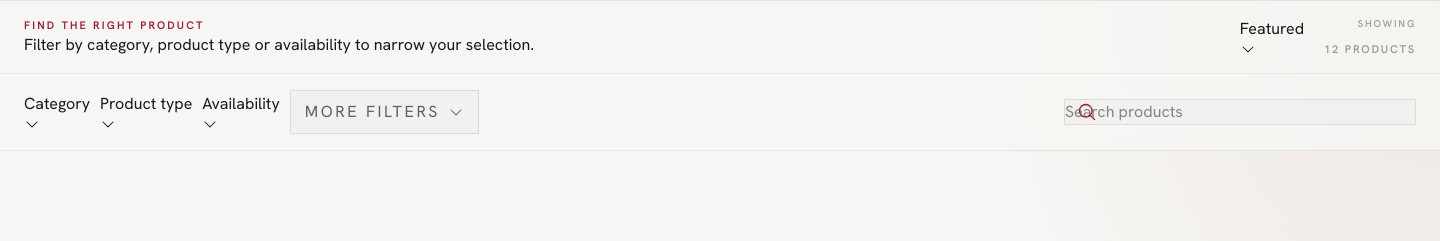
Test: FilterBar › keeps primary filters visible and progressively reveals contextual filters
Expected: the button "Category" is shown, top-left (24, 92), bottom-right (90, 132)
Expected: the button "Availability" is shown, top-left (202, 92), bottom-right (280, 132)
Click the button "More filters" at point(384, 112), box top-left (290, 90), bottom-right (479, 134)
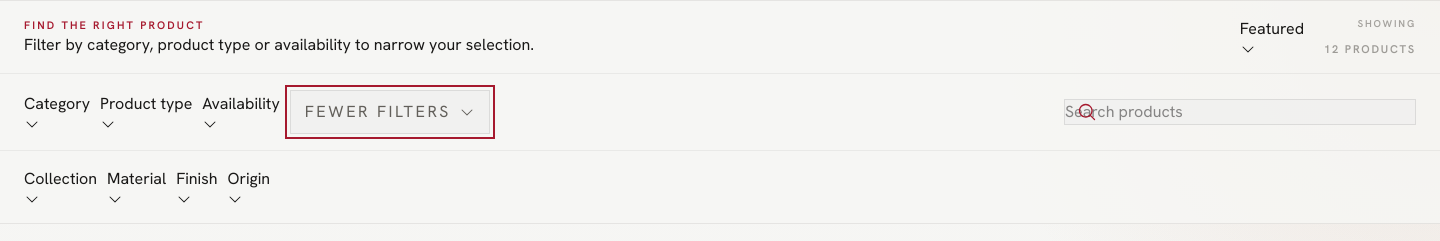
Expected: the button "Collection" is shown, top-left (24, 168), bottom-right (97, 208)
Expected: the button "Material" is shown, top-left (107, 168), bottom-right (166, 208)
